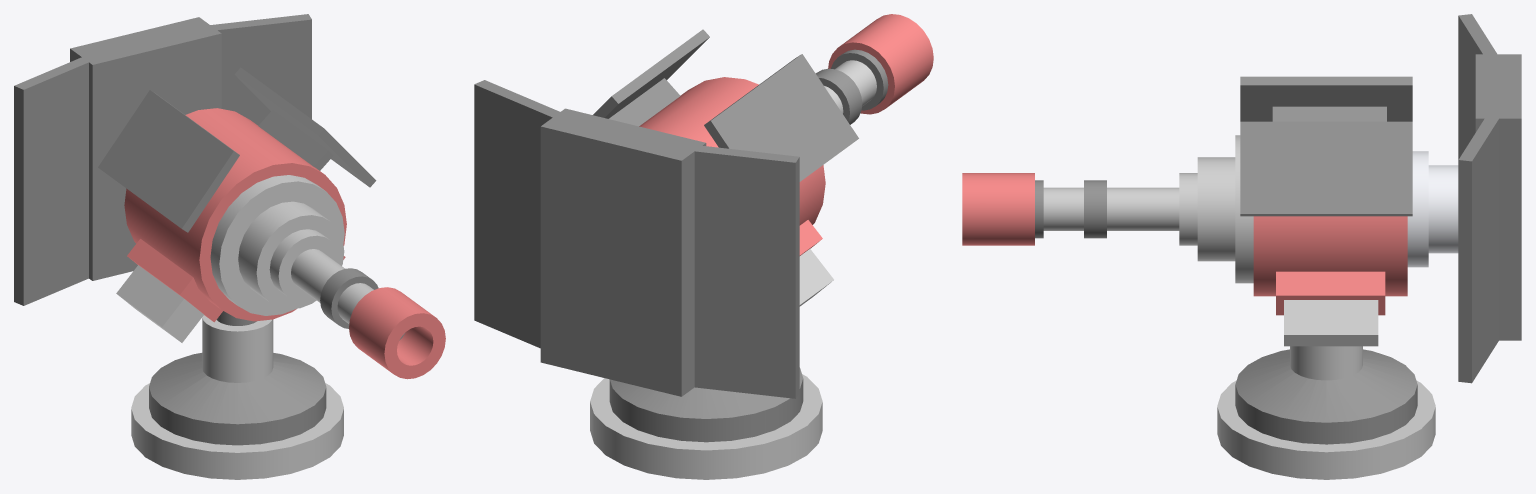
The model's file is torreta2.fbx.
3 views of the same model, side by side, from view 1: azimuth 30°, elevation 25°; view 2: azimuth 150°, elevation 25°; view 3: azimuth 270°, elevation 25° (orthographic). The views are drawn at different scales.
Parts seen in each view (by area): view 1: mergedBlocks_custom3_Clone__0.344, mergedBlocks_custom3_Clone__0.338, mergedBlocks_custom3_Clone__0.071, mergedBlocks_custom3_Clone__0.322, mergedBlocks_custom3_Clone__0.332, mergedBlocks_custom1_Clone__0.312, mergedBlocks_custom2_Clone__0.147, mergedBlocks_custom2_Clone__0.149, mergedBlocks_custom1_Clone__0.315, mergedBlocks_custom2_Clone__0.150, mergedBlocks_custom1_Clone__0.319, mergedBlocks_custom3_Clone__0.340 (+33 smaller); view 2: mergedBlocks_custom3_Clone__0.337, mergedBlocks_custom3_Clone__0.343, mergedBlocks_custom3_Clone__0.331, mergedBlocks_custom3_Clone__0.071, mergedBlocks_custom1_Clone__0.316, mergedBlocks_custom3_Clone__0.322, mergedBlocks_custom2_Clone__0.147, mergedBlocks_custom1_Clone__0.319, mergedBlocks_custom3_Clone__0.336, mergedBlocks_custom3_Clone__0.340, mergedBlocks_custom3_Clone__0.014, mergedBlocks_custom1_Clone__0.317 (+17 smaller); view 3: mergedBlocks_custom3_Clone__0.065, mergedBlocks_custom2_Clone__0.146, mergedBlocks_custom3_Clone__0.322, mergedBlocks_custom3_Clone__0.331, mergedBlocks_custom3_Clone__0.339, mergedBlocks_custom3_Clone__0.066, mergedBlocks_custom1_Clone__0.314, mergedBlocks_custom2_Clone__0.082, mergedBlocks_custom1_Clone__0.030, mergedBlocks_custom1_Clone__0.319, mergedBlocks_custom3_Clone__0.333, mergedBlocks_custom3_Clone__0.340 (+27 smaller).
Part boxes in pixels (x1,y1,x2,y2): mergedBlocks_custom3_Clone__0.344: [23, 62, 88, 305]; mergedBlocks_custom3_Clone__0.338: [92, 33, 221, 280]; mergedBlocks_custom3_Clone__0.071: [98, 90, 233, 228]; mergedBlocks_custom3_Clone__0.322: [149, 353, 326, 424]; mergedBlocks_custom3_Clone__0.332: [218, 19, 311, 125]; mergedBlocks_custom1_Clone__0.312: [219, 181, 344, 315]; mergedBlocks_custom2_Clone__0.147: [185, 108, 323, 199]; mergedBlocks_custom2_Clone__0.149: [124, 188, 220, 308]; mergedBlocks_custom1_Clone__0.315: [210, 420, 340, 479]; mergedBlocks_custom2_Clone__0.150: [199, 163, 346, 321]; mergedBlocks_custom1_Clone__0.319: [131, 383, 343, 452]; mergedBlocks_custom3_Clone__0.340: [70, 17, 221, 64]; mergedBlocks_custom3_Clone__0.337: [540, 126, 681, 396]; mergedBlocks_custom3_Clone__0.343: [694, 151, 795, 398]; mergedBlocks_custom3_Clone__0.331: [474, 84, 552, 348]; mergedBlocks_custom3_Clone__0.071: [711, 54, 858, 181]; mergedBlocks_custom1_Clone__0.316: [594, 414, 736, 479]; mergedBlocks_custom3_Clone__0.322: [610, 367, 803, 418]; mergedBlocks_custom2_Clone__0.147: [639, 77, 758, 147]; mergedBlocks_custom1_Clone__0.319: [590, 374, 822, 450]; mergedBlocks_custom3_Clone__0.336: [681, 143, 706, 396]; mergedBlocks_custom3_Clone__0.340: [541, 108, 705, 160]; mergedBlocks_custom3_Clone__0.014: [612, 389, 731, 442]; mergedBlocks_custom1_Clone__0.317: [736, 402, 822, 477]; mergedBlocks_custom3_Clone__0.065: [1240, 121, 1412, 213]; mergedBlocks_custom2_Clone__0.146: [1253, 216, 1407, 291]; mergedBlocks_custom3_Clone__0.322: [1235, 349, 1417, 422]; mergedBlocks_custom3_Clone__0.331: [1472, 119, 1498, 382]; mergedBlocks_custom3_Clone__0.339: [1475, 118, 1521, 340]; mergedBlocks_custom3_Clone__0.066: [1240, 85, 1412, 121]; mergedBlocks_custom1_Clone__0.314: [1249, 439, 1403, 479]; mergedBlocks_custom2_Clone__0.082: [962, 197, 1034, 243]; mergedBlocks_custom1_Clone__0.030: [1043, 202, 1179, 229]; mergedBlocks_custom1_Clone__0.319: [1217, 380, 1435, 452]; mergedBlocks_custom3_Clone__0.333: [1458, 160, 1471, 383]; mergedBlocks_custom3_Clone__0.340: [1475, 54, 1521, 118].
Bounding box in the file's own units: 9581 × 10400 × 15361.
